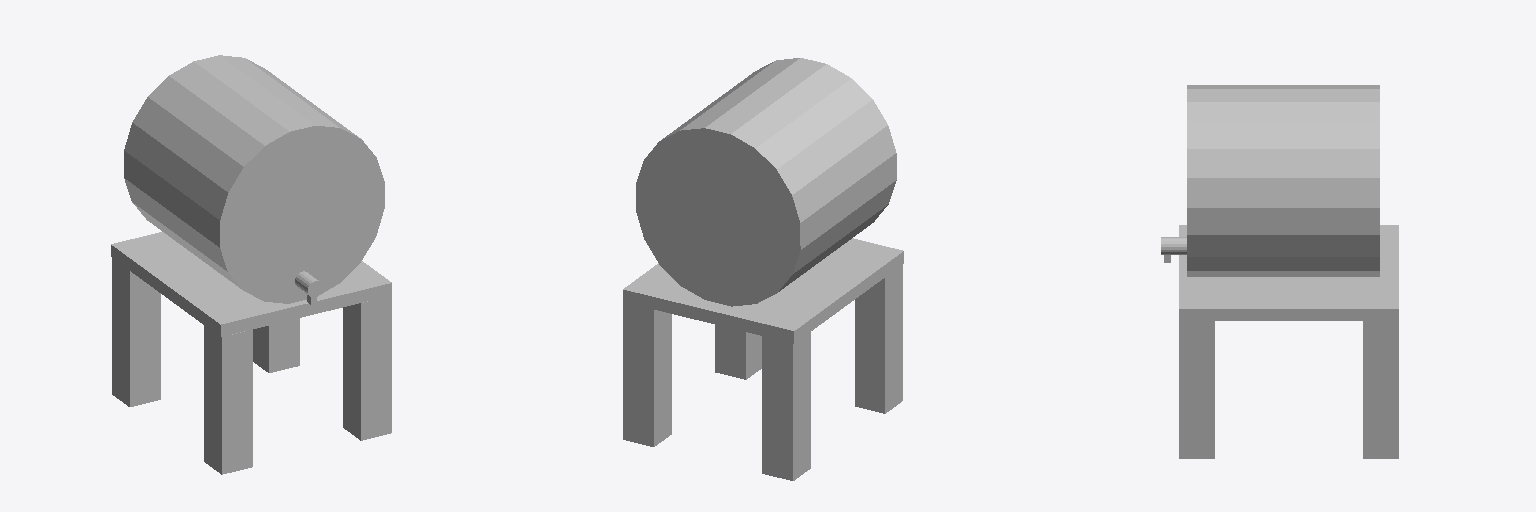
The model's file is Keg.obj.
3 views of the same model, side by side, from view 1: azimuth 30°, elevation 25°; view 2: azimuth 150°, elevation 25°; view 3: azimuth 270°, elevation 25° (orthographic).
Visible parts, largest first — view 1: pCylinder1, pCube1, pCube3, pCube4, pCube6, pCube5; view 2: pCylinder1, pCube1, pCube6, pCube5, pCube3, pCube4; view 3: pCylinder1, pCube1, pCube4, pCube5.
Part boxes in pixels (bbox=[...]): pCylinder1: bbox=[124, 55, 384, 303]; pCube1: bbox=[111, 232, 391, 336]; pCube3: bbox=[204, 325, 252, 474]; pCube4: bbox=[343, 296, 391, 440]; pCube6: bbox=[112, 258, 160, 406]; pCube5: bbox=[253, 318, 299, 372]; pCylinder1: bbox=[636, 58, 896, 306]; pCube1: bbox=[623, 238, 903, 343]; pCube6: bbox=[762, 332, 810, 480]; pCube5: bbox=[623, 302, 671, 446]; pCube3: bbox=[855, 265, 902, 413]; pCube4: bbox=[715, 325, 761, 379]; pCylinder1: bbox=[1187, 85, 1379, 276]; pCube1: bbox=[1179, 225, 1398, 320]; pCube4: bbox=[1179, 321, 1214, 458]; pCube5: bbox=[1363, 321, 1398, 458].
Size of the model in its own units: 2.49 by 4.47 by 2.98.